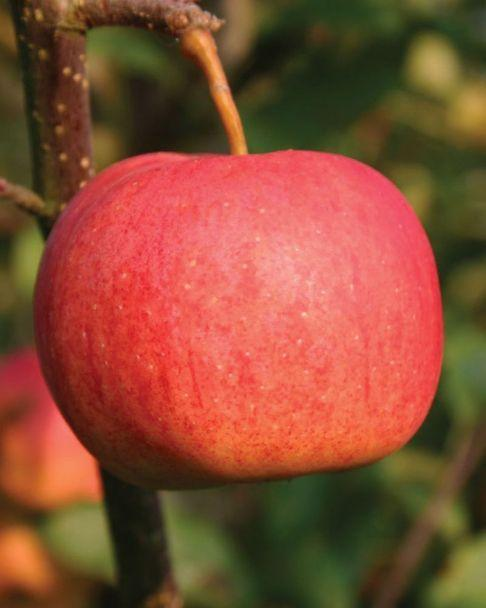HEALTHY: (35, 113, 453, 502)
